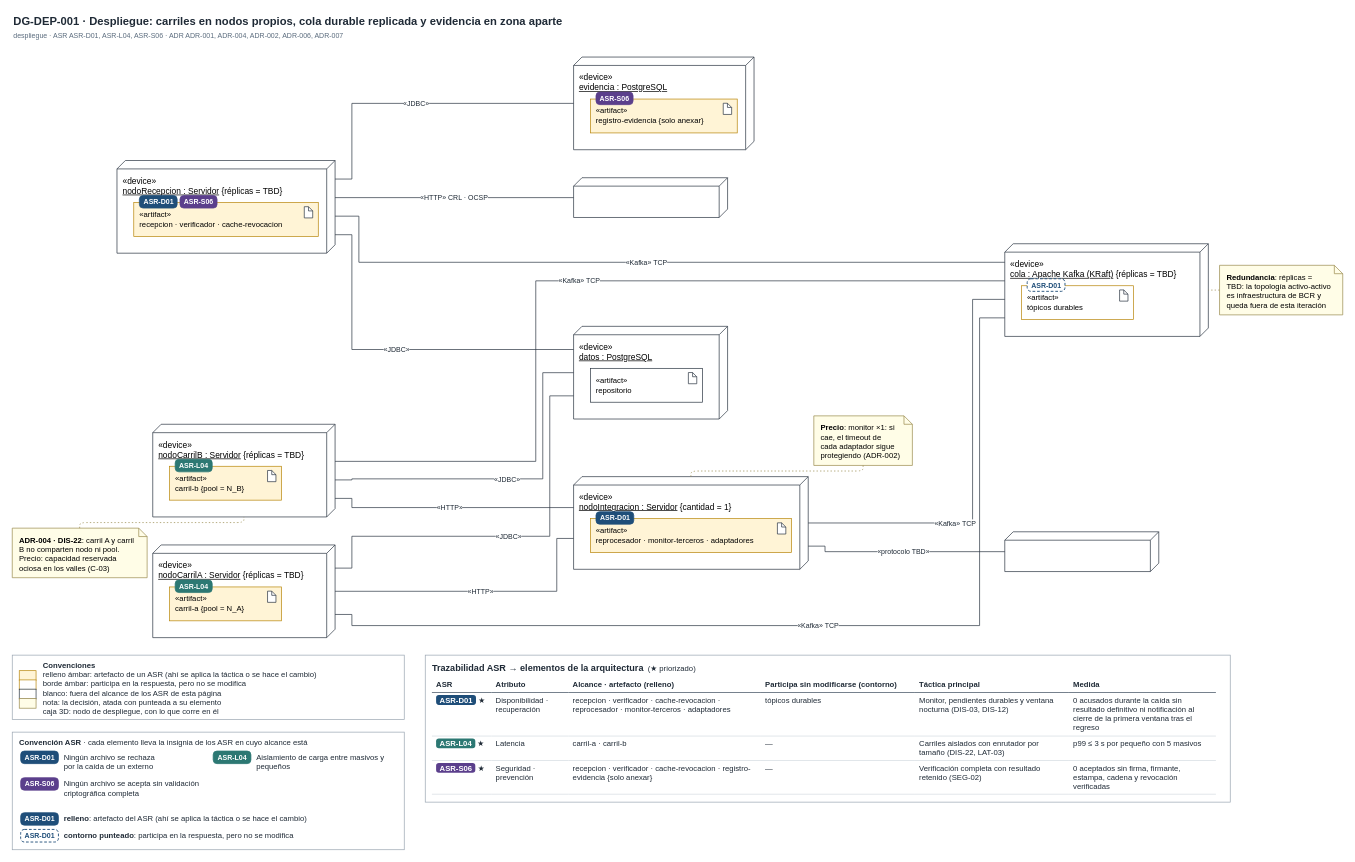
Image size: 1355x862. Some labels were removed from this diagram. The centre of each missing label's shape, as x and y in pixels:
"«device» ECD" goes at (650,197).
"«device» STM · ANTA · MAMC · RNIC" goes at (1081,551).
